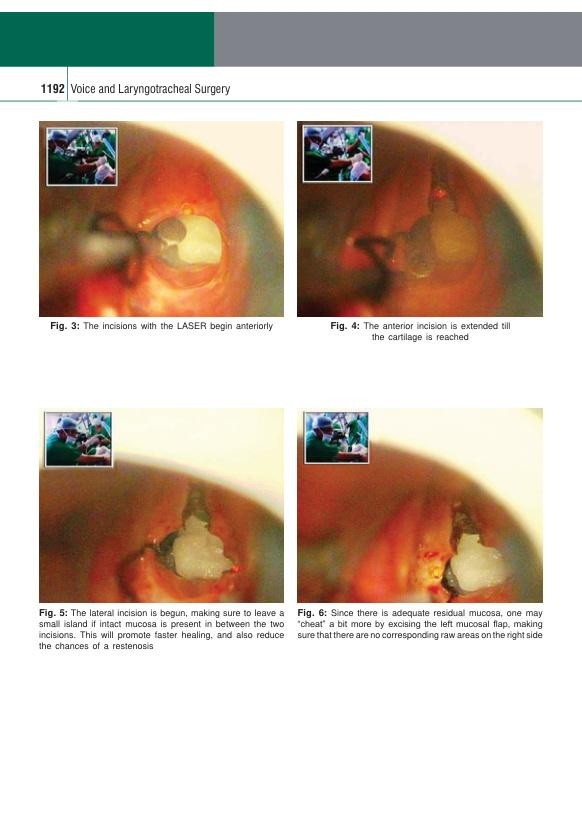caption: (38, 607, 286, 651), (296, 607, 544, 641), (330, 321, 512, 343), (49, 321, 274, 333)
header: (69, 82, 232, 97)
image: (297, 120, 543, 318), (38, 120, 284, 317), (296, 407, 543, 603), (39, 407, 284, 604)
